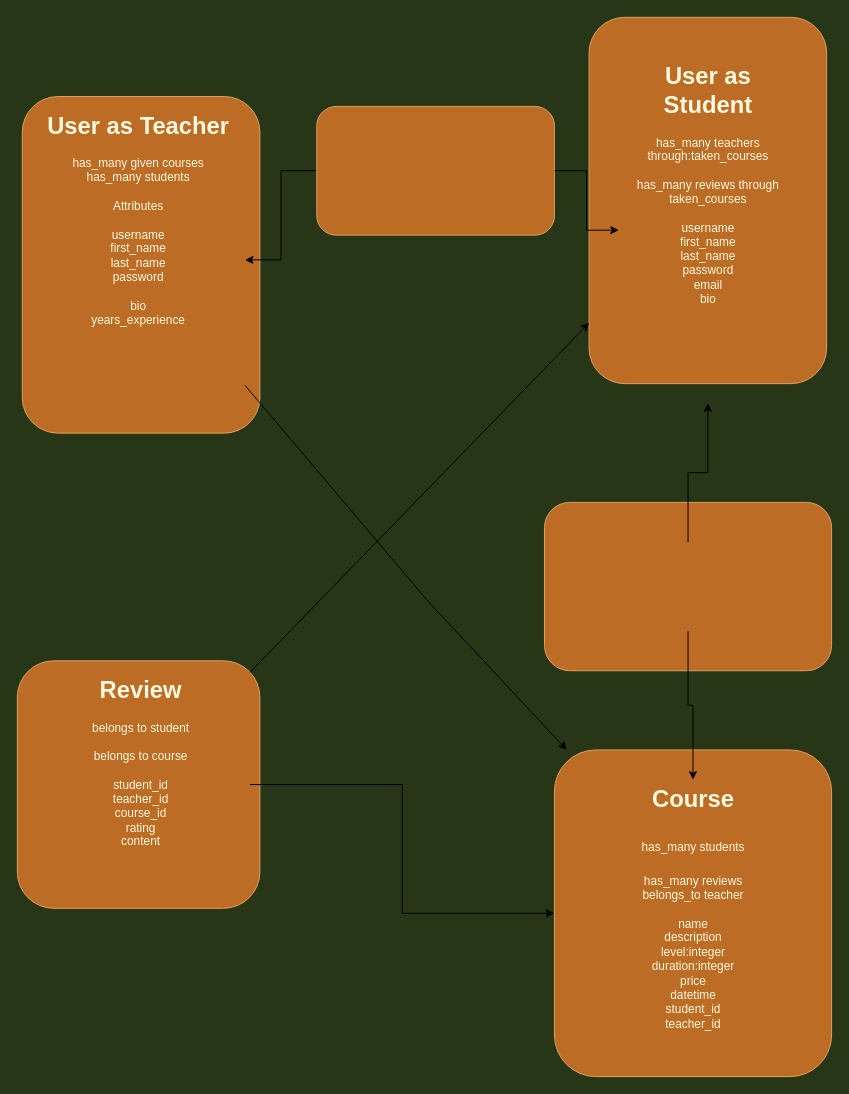
The diagram is 849 pixels wide and 1094 high, and some of its shapes have lost their labels. The shapes that lost their labels are listed below. From the top down, each one's centre as x and y in pixels, then its label:
At point (435, 170): "StudentTeachers references:student references:teacher".
At point (688, 586): "StudentCourses references:student references:course".
